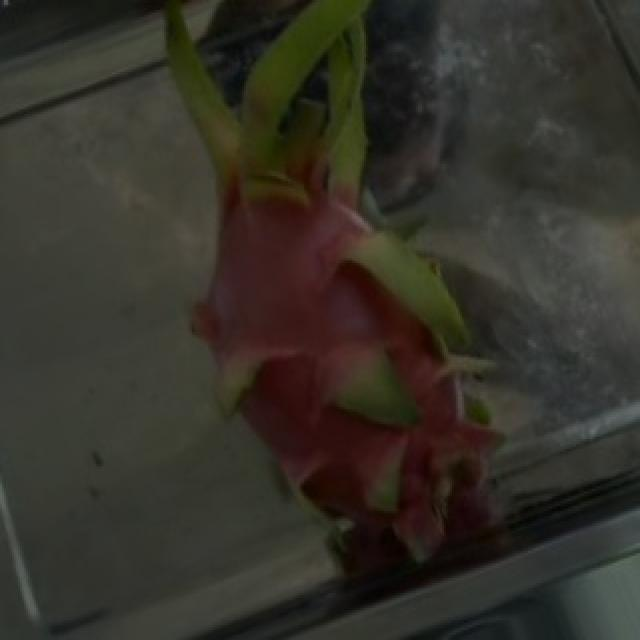fruit: (166, 169, 600, 630)
